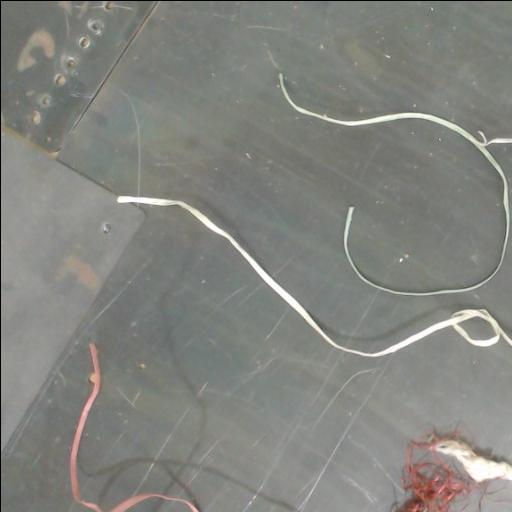conveyor belt: (1, 206, 512, 512), (62, 1, 512, 348)
thread: (117, 197, 512, 356), (279, 73, 512, 294), (343, 145, 508, 295), (69, 343, 177, 512), (279, 73, 432, 125), (393, 434, 477, 512)
